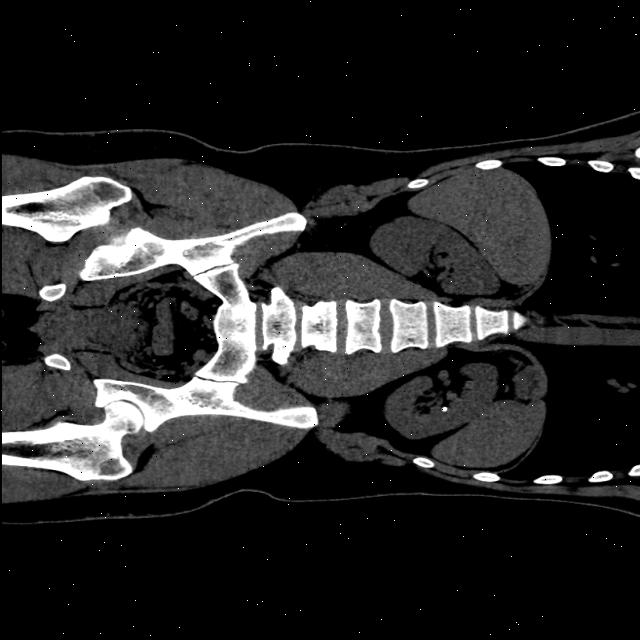kidneystone: (440, 407, 447, 412)
